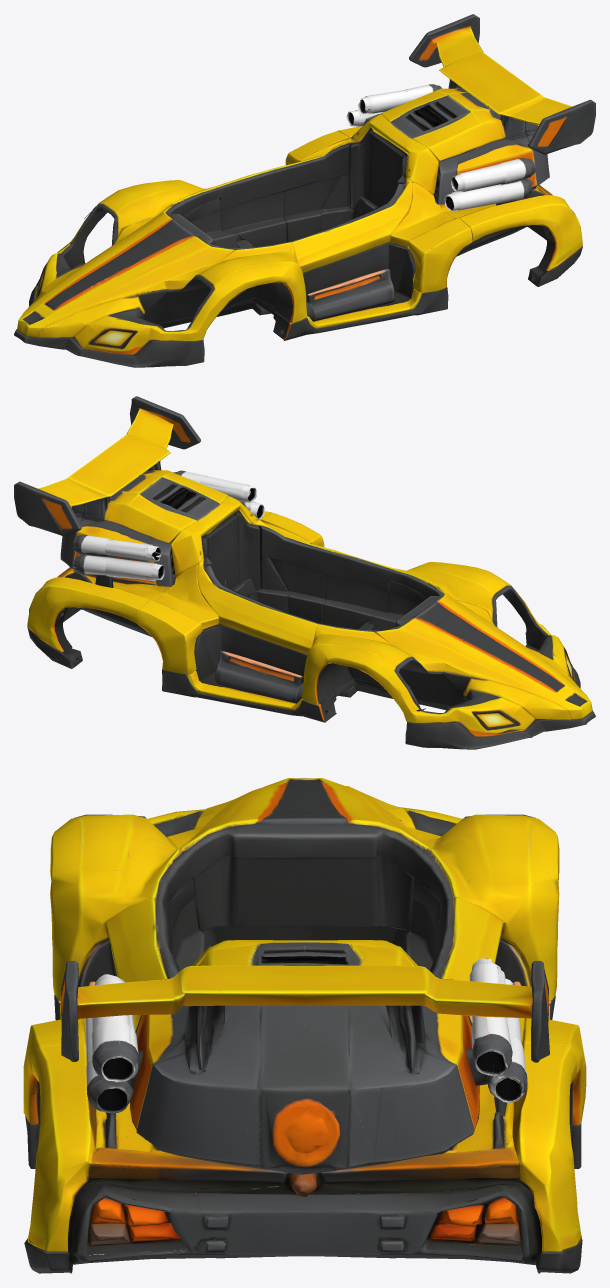
File: blitz.glb
The picture shows the model from 3 angles, top to bottom: view 1: azimuth 30°, elevation 25°; view 2: azimuth 150°, elevation 25°; view 3: azimuth 270°, elevation 25°; orthographic projection. The views are drawn at different scales.
Visible parts, largest first — view 1: geometry_0; view 2: geometry_0; view 3: geometry_0.
Boxes of the visible parts, x1,y1,x2,y2 form: geometry_0: (14, 14, 595, 367); geometry_0: (14, 396, 595, 749); geometry_0: (23, 778, 586, 1273).
Size of the model in its own units: 0.9521 by 0.2915 by 0.4478.
Materials: 1 (1 with a texture image).
